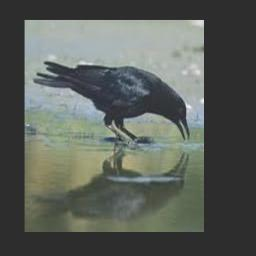Crow: (32, 60, 190, 144)
